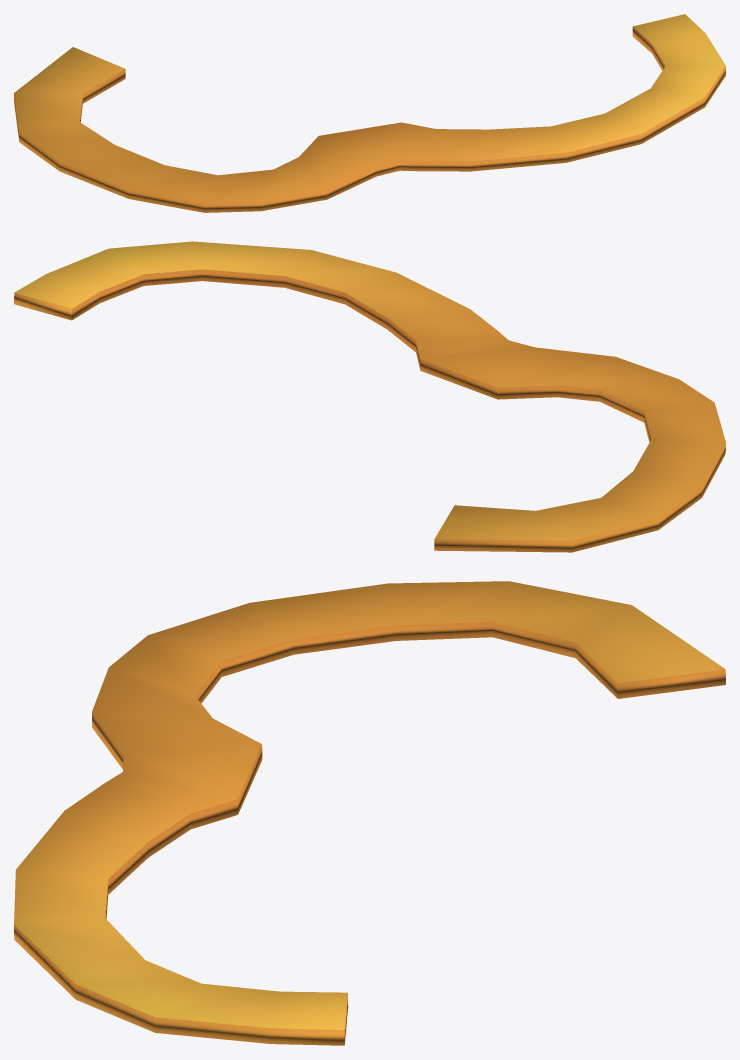
The model's file is yellowPepper.glb.
3 renders of one model, top to bottom at view 1: azimuth 30°, elevation 25°; view 2: azimuth 150°, elevation 25°; view 3: azimuth 270°, elevation 25°, orthographic. The views are drawn at different scales.
Visible parts, largest first — view 1: pepper.002; view 2: pepper.002; view 3: pepper.002.
Part boxes in pixels (bbox=[...]): pepper.002: bbox=[14, 14, 725, 212]; pepper.002: bbox=[14, 241, 725, 552]; pepper.002: bbox=[14, 581, 725, 1045].
Bounding box in the file's own units: 3.17 × 0.0962 × 2.07.
1 material, 1 textured.
